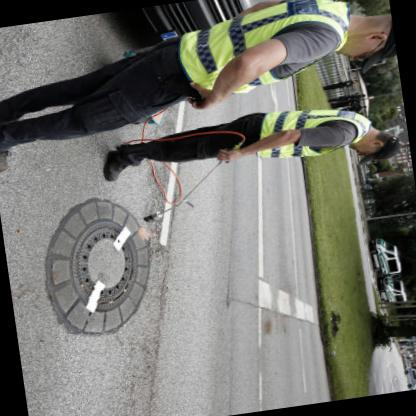manholes: (23, 187, 183, 343)
